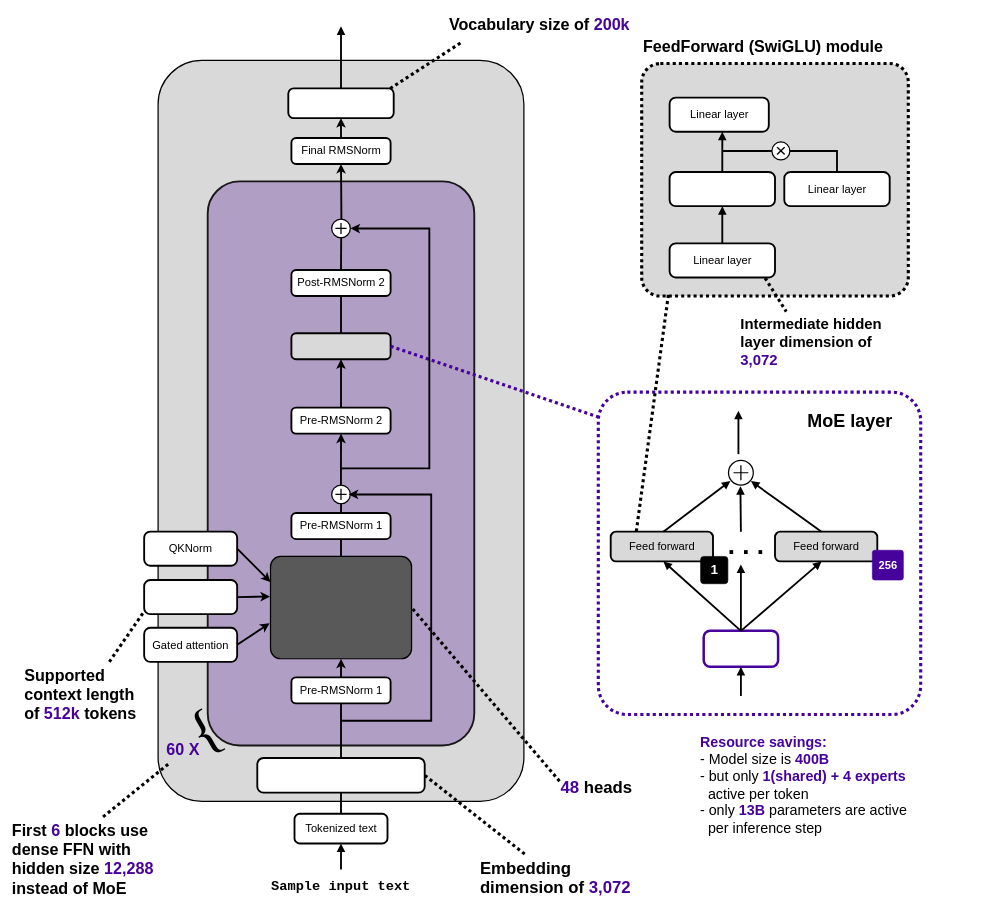
This 993x920 diagram has some shape labels left out. Here are the shapes that lost their labels. From the top down, the centre of each, then its label:
At pixel 340 103: "Linear output layer".
At pixel 722 189: "SiLU activation".
At pixel 340 346: "MoE".
At pixel 190 597: "RoPE".
At pixel 341 607: "Grouped Query Attention(GQA ) + Sliding Window Attention (SWA) in 3:1 ratio".
At pixel 740 648: "Router".
At pixel 340 775: "Token embeding layer".
